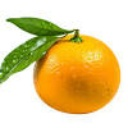orange: (3, 15, 122, 114)
